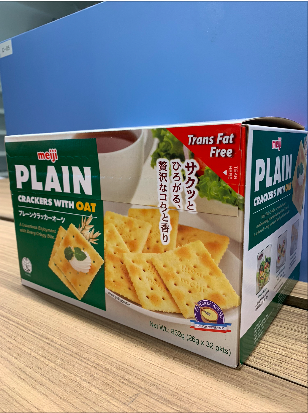Crackers_800-899g: (18, 143, 244, 335)
